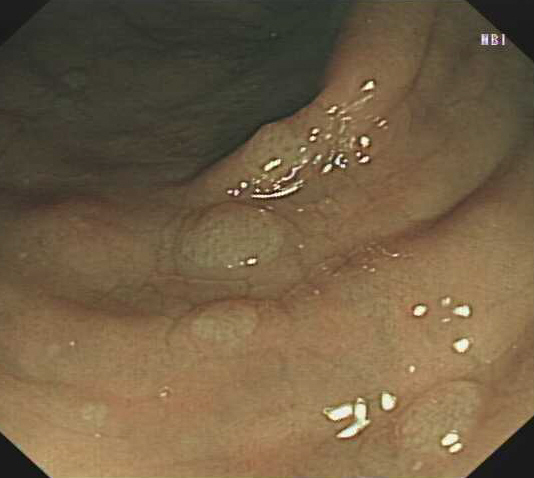others: (177, 200, 292, 271), (388, 376, 490, 456), (186, 298, 261, 346), (244, 118, 300, 176)
